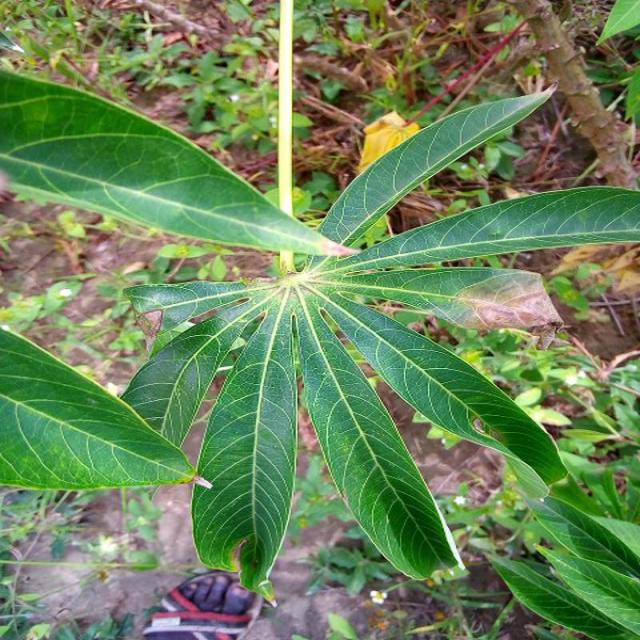cassava leaf: (0, 62, 638, 601), (0, 66, 358, 260), (294, 283, 470, 582), (316, 80, 558, 250), (0, 324, 204, 492), (190, 292, 298, 604)
